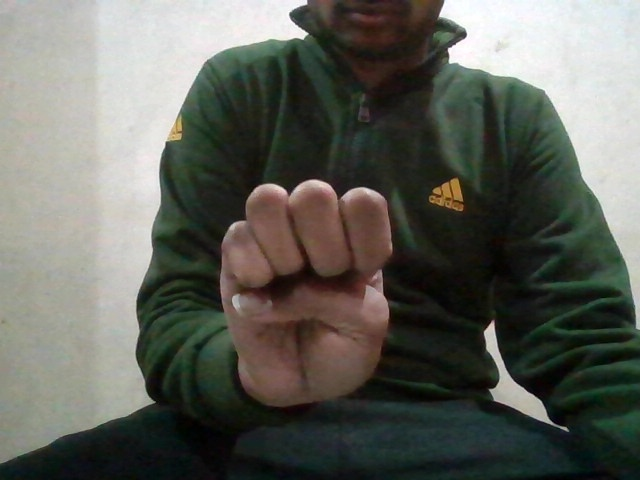E: (214, 176, 393, 405)
